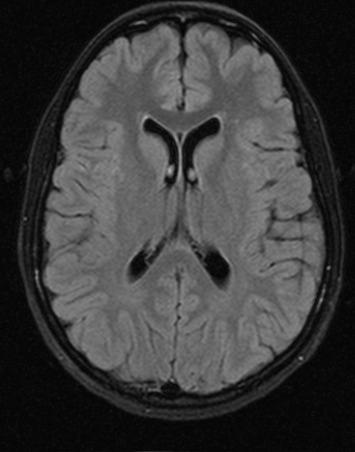Normal_Brain: (1, 1, 355, 452)
